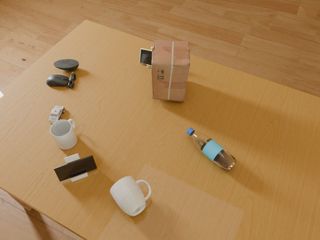bottle: (187, 128, 236, 172)
box: (151, 39, 190, 102)
cup: (110, 176, 151, 216), (50, 119, 77, 149)
mouse: (46, 72, 76, 88), (54, 59, 79, 70)
phone: (54, 155, 97, 181), (140, 48, 152, 65)
toy_car: (49, 106, 65, 123)
